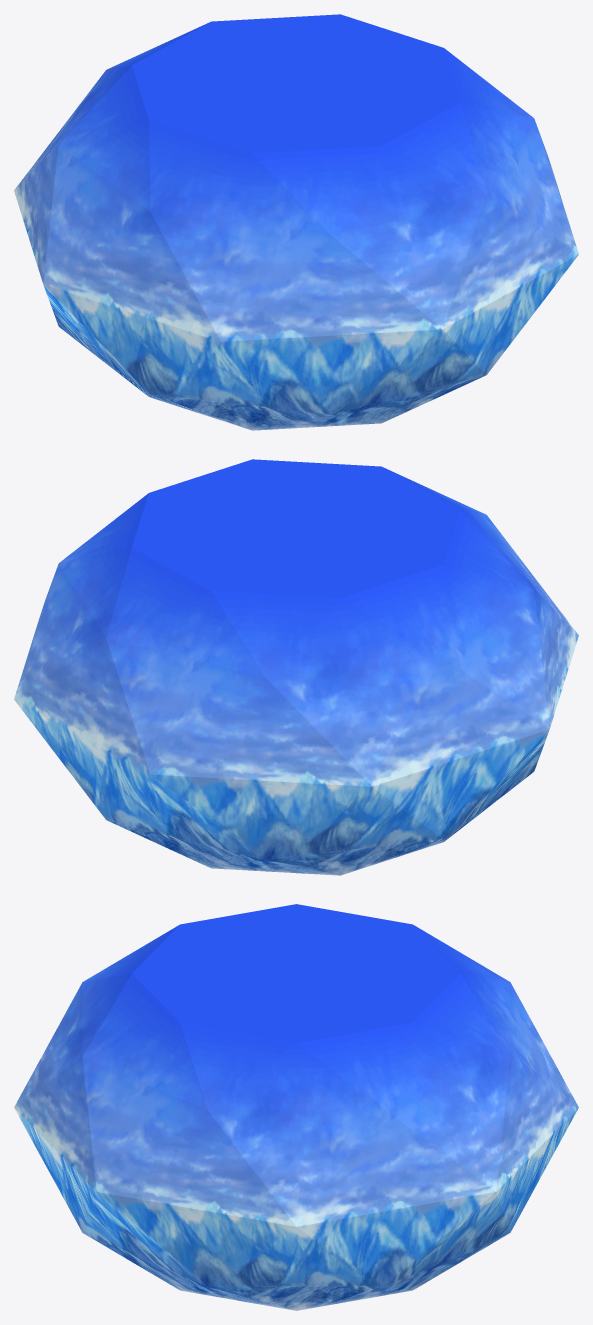
The picture shows the model from 3 angles, top to bottom: view 1: azimuth 30°, elevation 25°; view 2: azimuth 150°, elevation 25°; view 3: azimuth 270°, elevation 25°; orthographic projection. The views are drawn at different scales.
Parts seen in each view (by area): view 1: vr04; view 2: vr04; view 3: vr04.
Boxes of the visible parts, x1,y1,x2,y2 form: vr04: (14, 14, 578, 430); vr04: (14, 459, 578, 875); vr04: (14, 904, 578, 1310).
Size of the model in its own units: 117964 by 61688 by 117964.
Materials: 1 (1 with a texture image).
